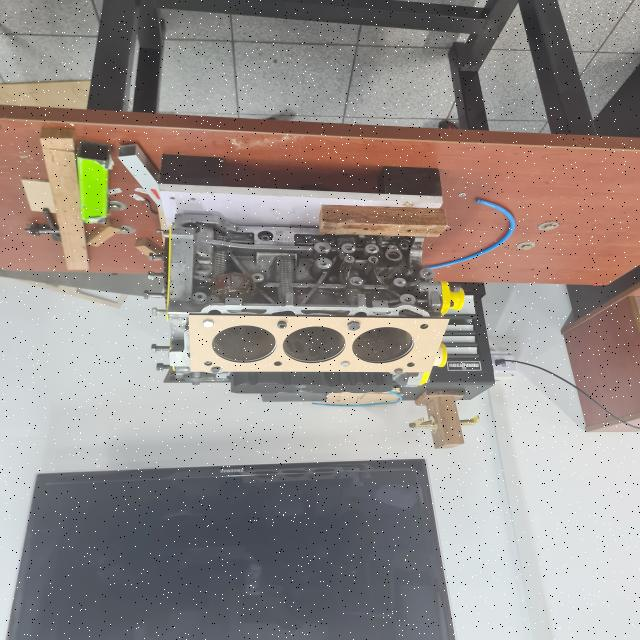vista1: (188, 315, 448, 373)
